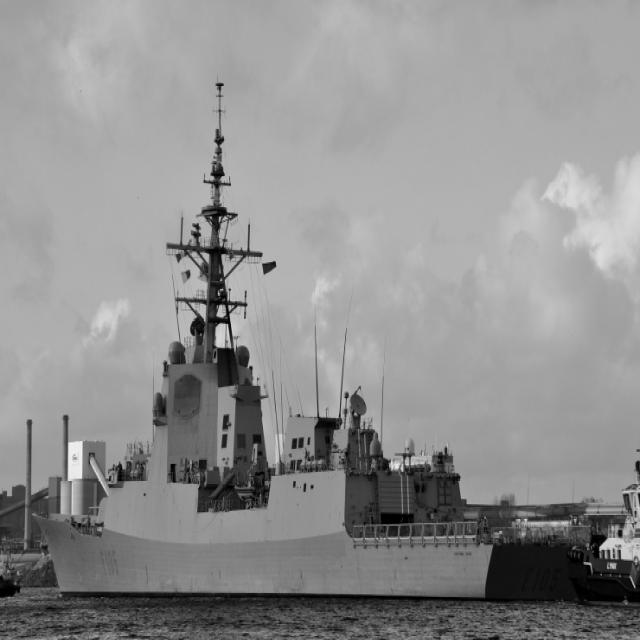Fragata: (30, 68, 592, 606)
